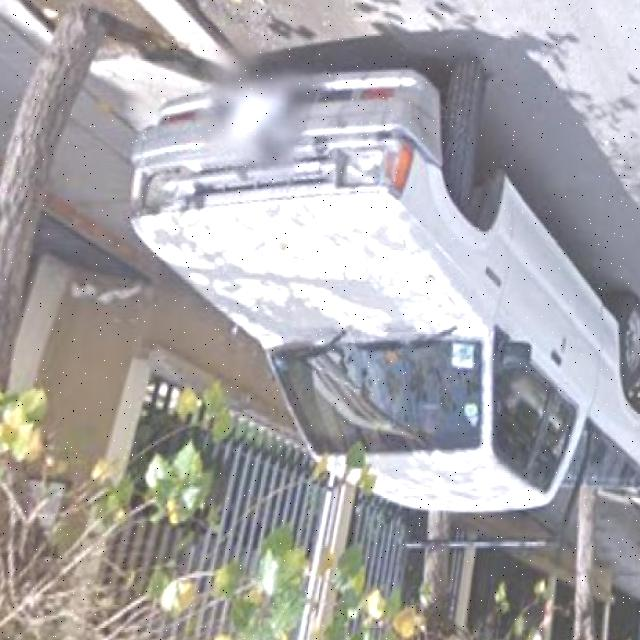car: (130, 39, 640, 508)
